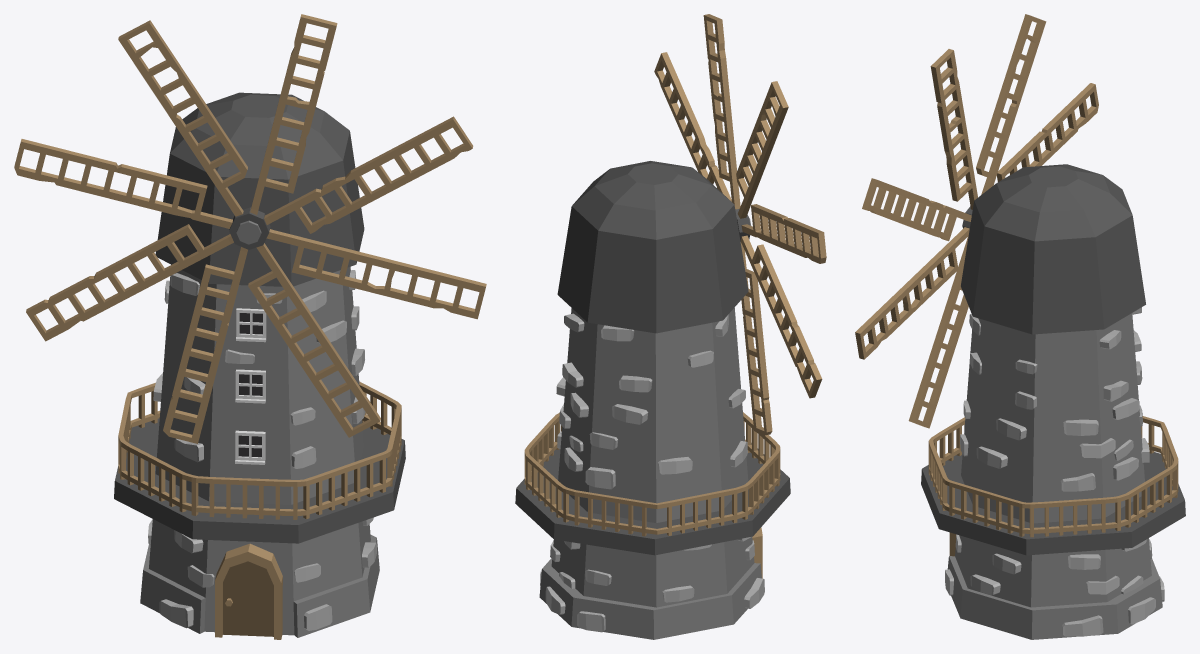
The model's file is towerwindmill_lev1.glb.
3 renders of one model, left to right at view 1: azimuth 30°, elevation 25°; view 2: azimuth 150°, elevation 25°; view 3: azimuth 270°, elevation 25°, orthographic. The views are drawn at different scales.
Visible parts, largest first — view 1: towerwindmill_lev1; view 2: towerwindmill_lev1; view 3: towerwindmill_lev1.
Part boxes in pixels (x1=…): towerwindmill_lev1: x1=14, y1=14, x2=486, y2=639; towerwindmill_lev1: x1=515, y1=14, x2=826, y2=639; towerwindmill_lev1: x1=855, y1=14, x2=1185, y2=639.
Size of the model in its own units: 6.81 by 11.41 by 6.37.
